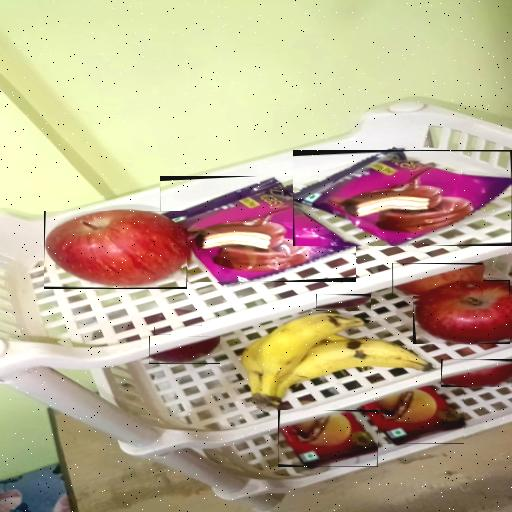Apple: (44, 211, 187, 289), (413, 280, 510, 344), (392, 263, 483, 296), (441, 359, 512, 387), (149, 336, 220, 364), (316, 294, 371, 311), (154, 327, 171, 335), (186, 318, 202, 326)
Choco Fills: (362, 386, 464, 444), (278, 410, 378, 467)
Choco Pie: (293, 150, 512, 246), (160, 176, 356, 282)
